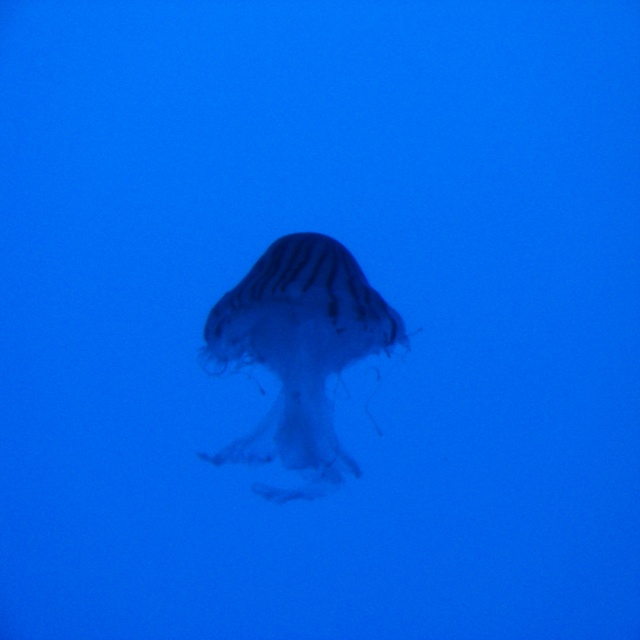Jellyfish: (194, 229, 422, 506)
